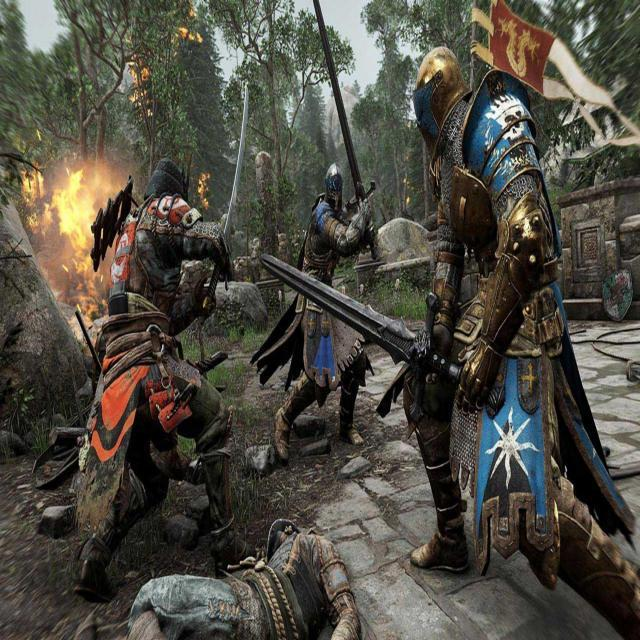katana: (205, 84, 254, 313)
sword: (258, 253, 493, 422), (311, 1, 383, 257)
